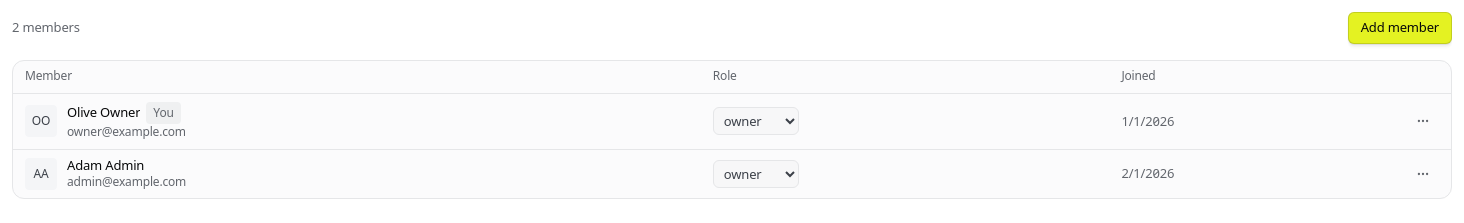
MembersPanel › offers Leave on your own row rather than Remove
The image size is (1464, 223).
Expected: the text "owner@example.com" is shown, [67, 124, 186, 141]
Click the button named "actions for owner@example.com": [1423, 121] box [1407, 105, 1439, 137]
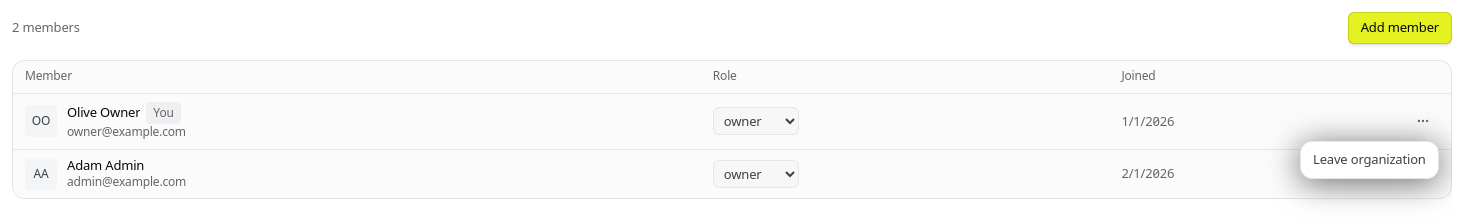
Expected: the menu item "Leave organization" is shown, [1305, 146, 1434, 174]
